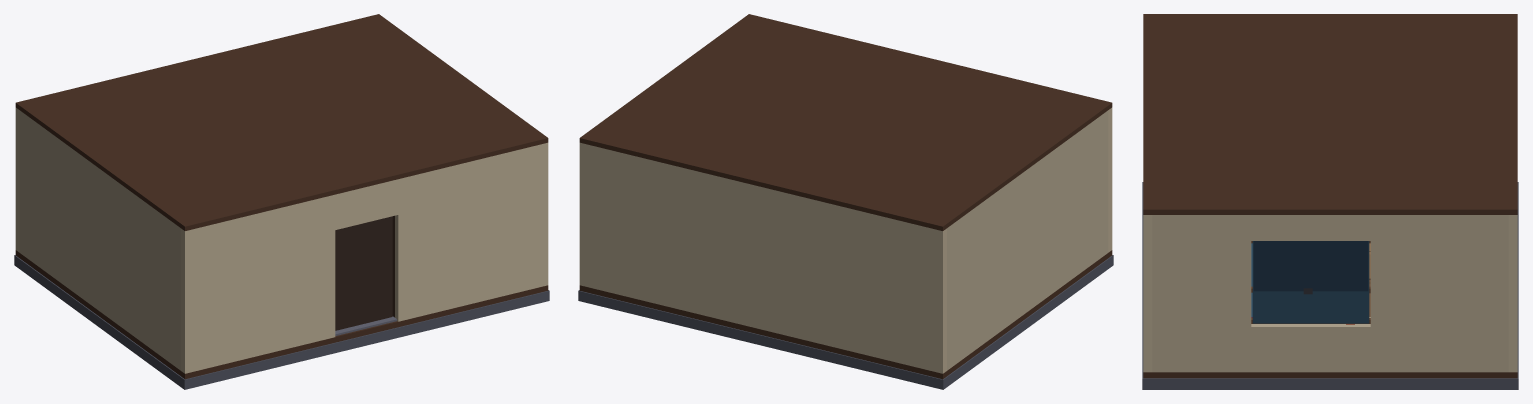
File: 万象酒馆-客房B.glb
3 views of the same model, side by side, from view 1: azimuth 30°, elevation 25°; view 2: azimuth 150°, elevation 25°; view 3: azimuth 270°, elevation 25° (orthographic). The views are drawn at different scales.
Parts seen in each view (by area): view 1: Guest_Room_Voxels; view 2: Guest_Room_Voxels; view 3: Guest_Room_Voxels.
Boxes of the visible parts, x1,y1,x2,y2 form: Guest_Room_Voxels: (14, 14, 549, 389); Guest_Room_Voxels: (578, 14, 1113, 389); Guest_Room_Voxels: (1142, 14, 1518, 389).
Size of the model in its own units: 8.36 by 3.56 by 6.76.
